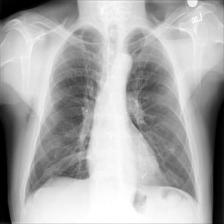normal: (21, 23, 202, 211)
